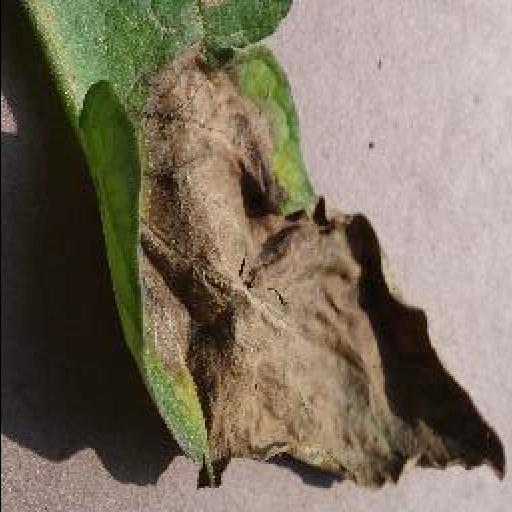disease_tomato: (26, 0, 512, 488)
